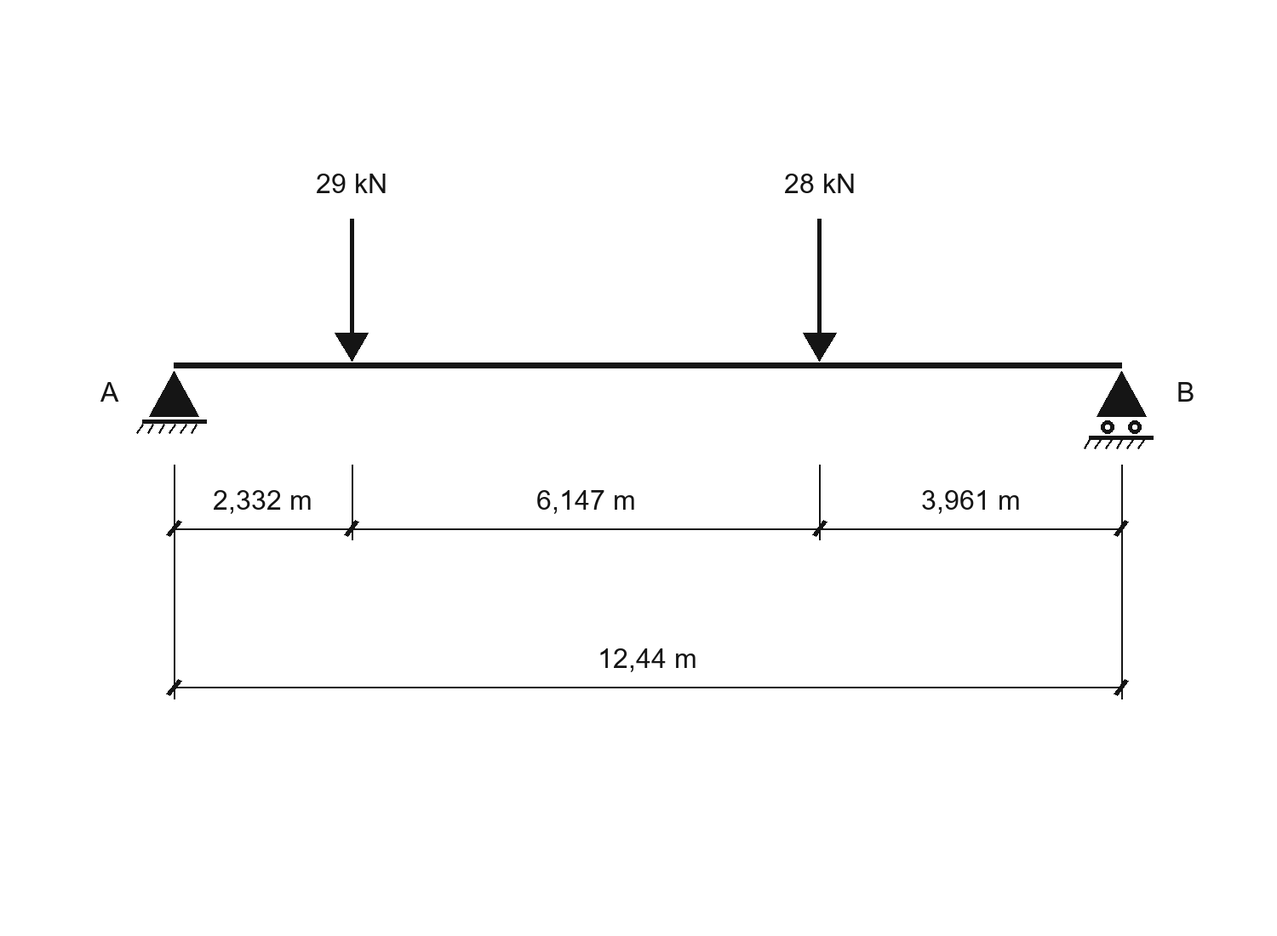pin_support: (136, 371, 207, 434)
point_load: (335, 219, 369, 362), (803, 219, 837, 362)
roller_support: (1084, 371, 1154, 449)
